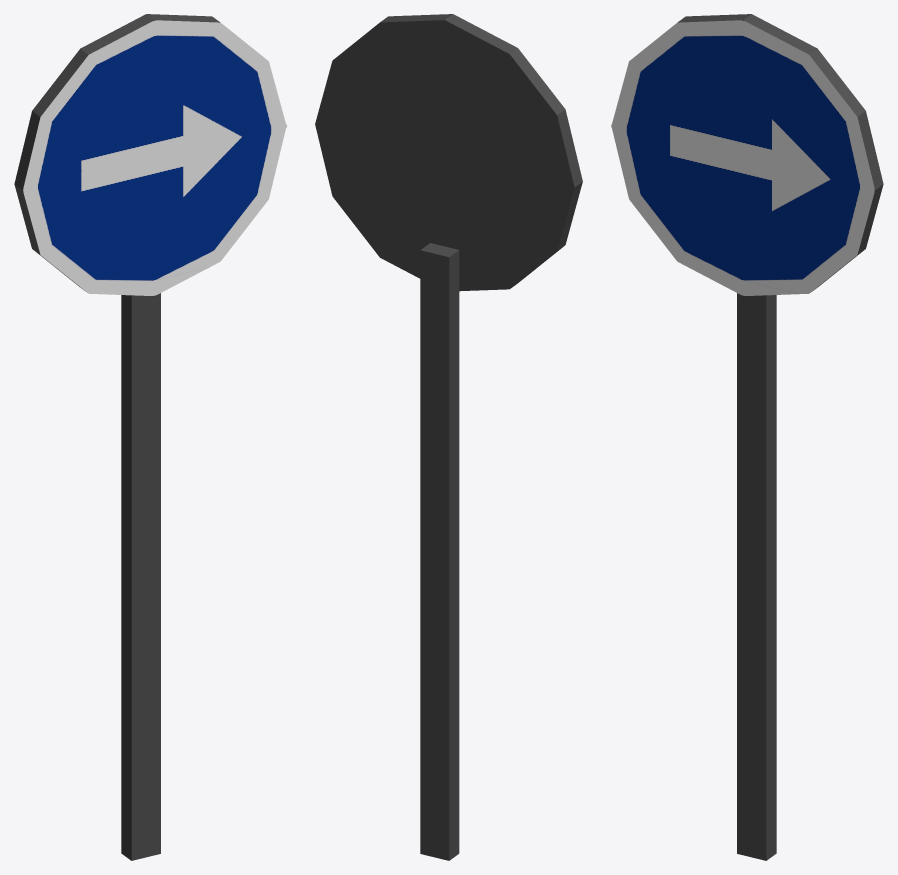
Rendered from traffic_sign_go_right.glb.
3 views of the same model, side by side, from view 1: azimuth 30°, elevation 25°; view 2: azimuth 150°, elevation 25°; view 3: azimuth 330°, elevation 25° (orthographic).
Parts seen in each view (by area): view 1: Circle, Plane; view 2: Circle, Plane; view 3: Circle, Plane.
Part boxes in pixels (x1=…): Circle: x1=14, y1=14, x2=286, y2=296; Plane: x1=121, y1=293, x2=160, y2=860; Circle: x1=315, y1=14, x2=582, y2=291; Plane: x1=420, y1=243, x2=459, y2=860; Circle: x1=611, y1=14, x2=883, y2=296; Plane: x1=737, y1=293, x2=776, y2=860.
Size of what is drawn, in the model's own units: 0.9 by 2.75 by 0.11.
3 materials, 1 textured.
